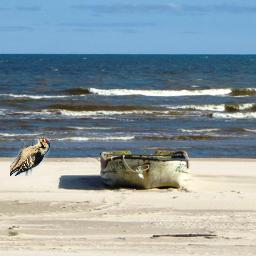Woodpecker: (10, 136, 50, 176)
